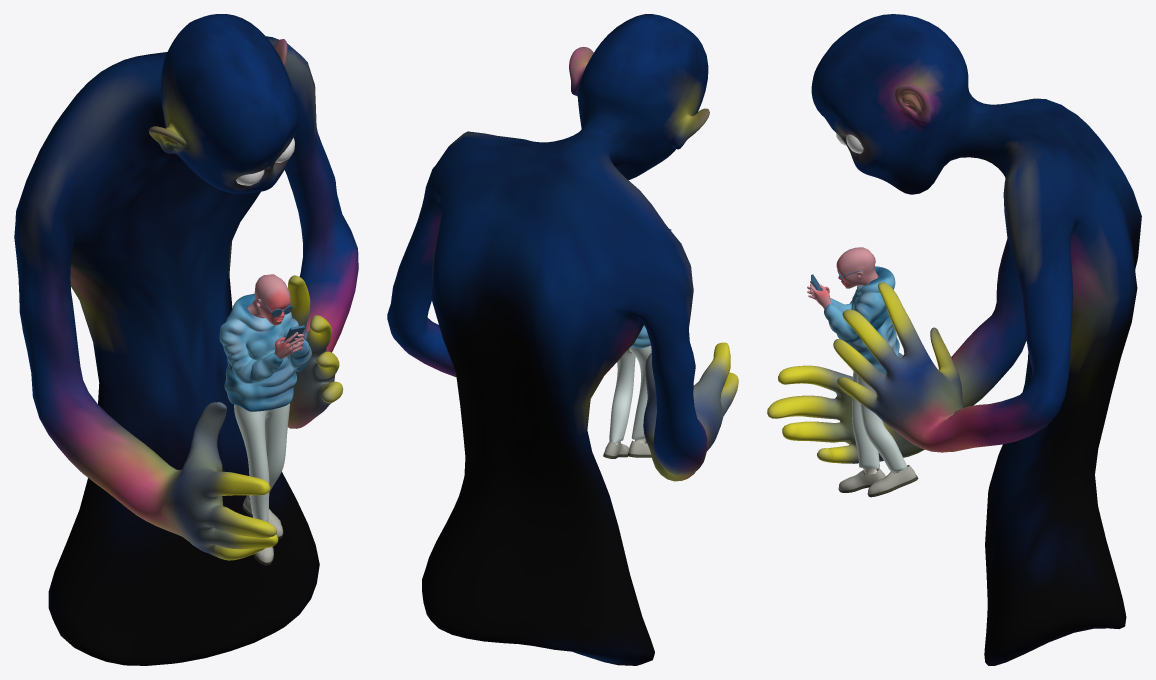
Rendered from creature.glb.
3 views of the same model, side by side, from view 1: azimuth 30°, elevation 25°; view 2: azimuth 150°, elevation 25°; view 3: azimuth 270°, elevation 25° (orthographic). The views are drawn at different scales.
Parts seen in each view (by area): view 1: body, guy-jacket, guy-trousers, guy-upperbody; view 2: body, guy-trousers; view 3: body, guy-jacket, guy-trousers, guy-upperbody, guy-rightshoe.
Part boxes in pixels (x1,y1,x2,y2): body: (14,14,358,665); guy-jacket: (219,293,311,411); guy-trousers: (234,403,289,521); guy-upperbody: (247,274,290,325); body: (387,14,738,665); guy-trousers: (609,346,651,443); body: (767,14,1141,665); guy-jacket: (824,266,899,373); guy-trousers: (852,371,907,471); guy-upperbody: (836,247,878,288); guy-rightshoe: (868,465,916,494).
Size of the model in its own units: 1.19 by 2.29 by 1.27.
